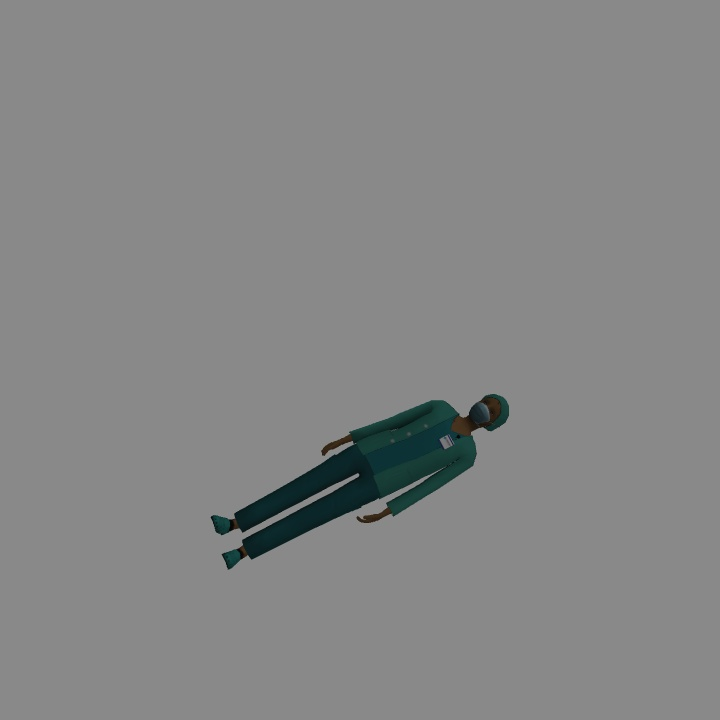victim: (218, 393, 507, 565)
